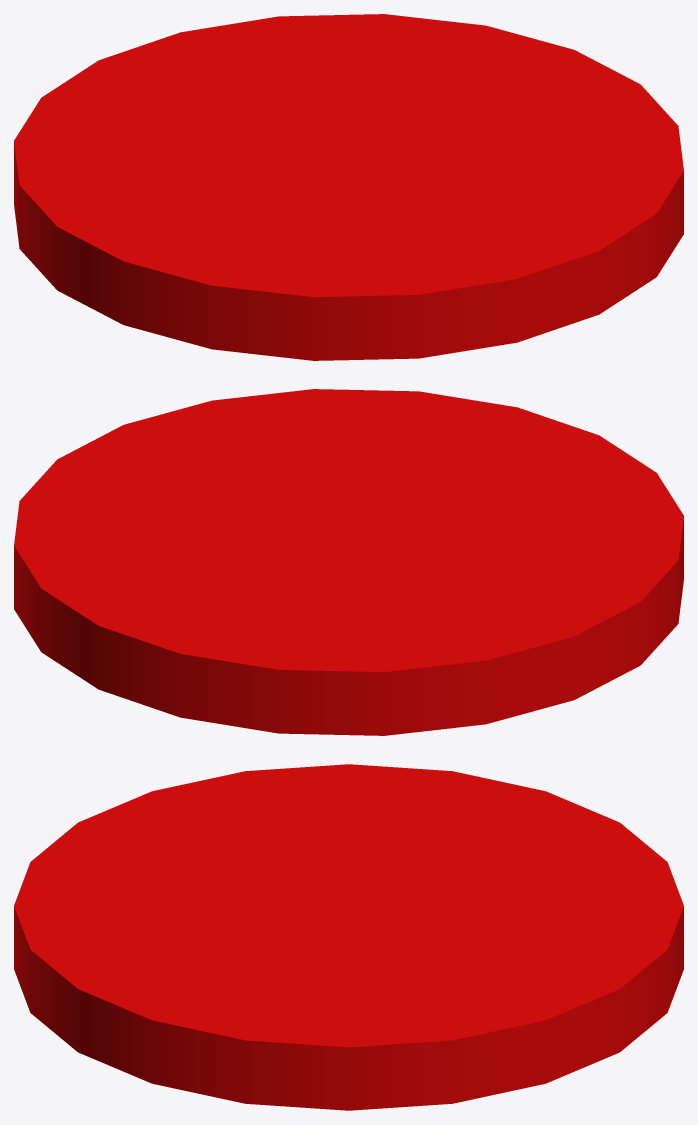
Rendered from FloatingDiskCollision.fbx.
The picture shows the model from 3 angles, top to bottom: view 1: azimuth 30°, elevation 25°; view 2: azimuth 150°, elevation 25°; view 3: azimuth 270°, elevation 25°; orthographic projection.
Parts seen in each view (by area): view 1: FloatingDiskCollision; view 2: FloatingDiskCollision; view 3: FloatingDiskCollision.
Part boxes in pixels (x1,y1,x2,y2): FloatingDiskCollision: (14, 14, 683, 360); FloatingDiskCollision: (14, 389, 683, 735); FloatingDiskCollision: (14, 764, 683, 1110).
Bounding box in the file's own units: 2560 × 267 × 2560.
